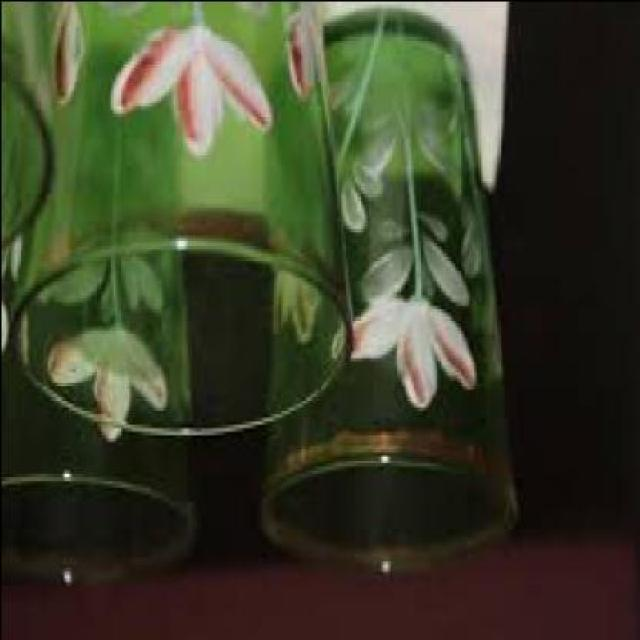GLASS: (7, 4, 347, 441), (252, 14, 514, 571), (0, 178, 189, 588), (0, 2, 51, 249)
